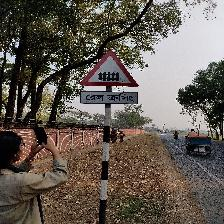Rail-crossing: (79, 51, 140, 106)
